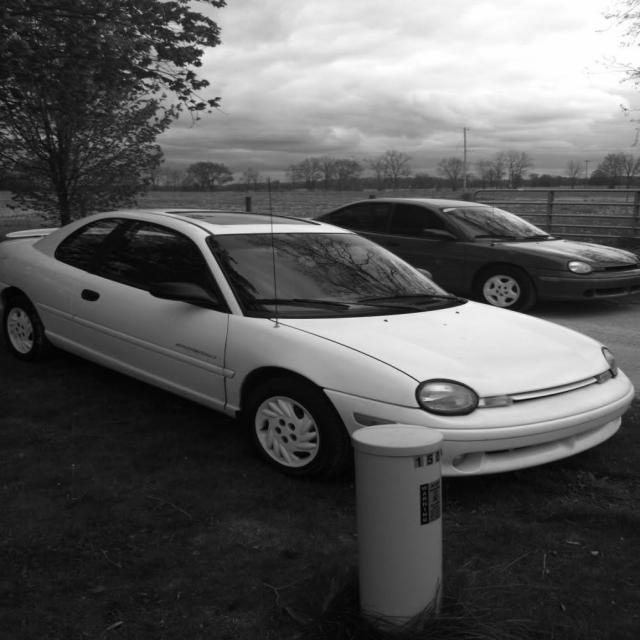car: (0, 207, 636, 481), (303, 197, 639, 312)
